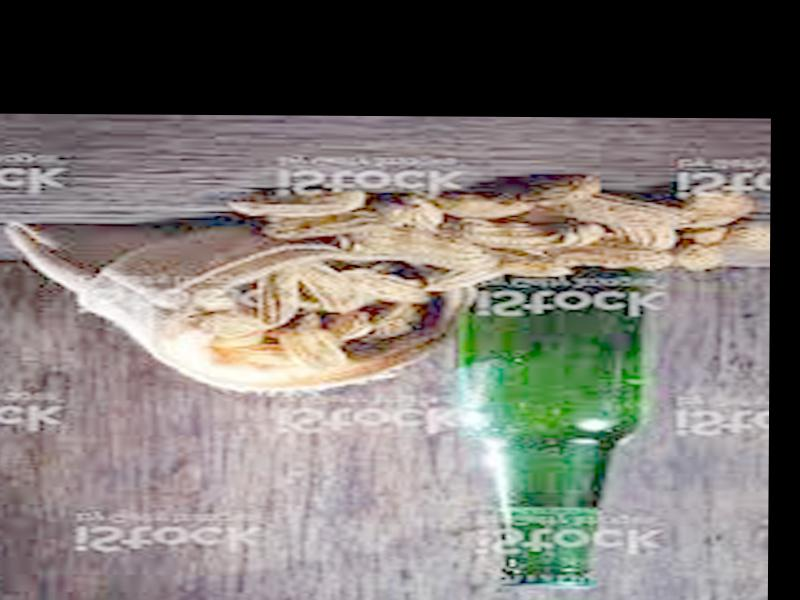Beer: (449, 242, 648, 592)
